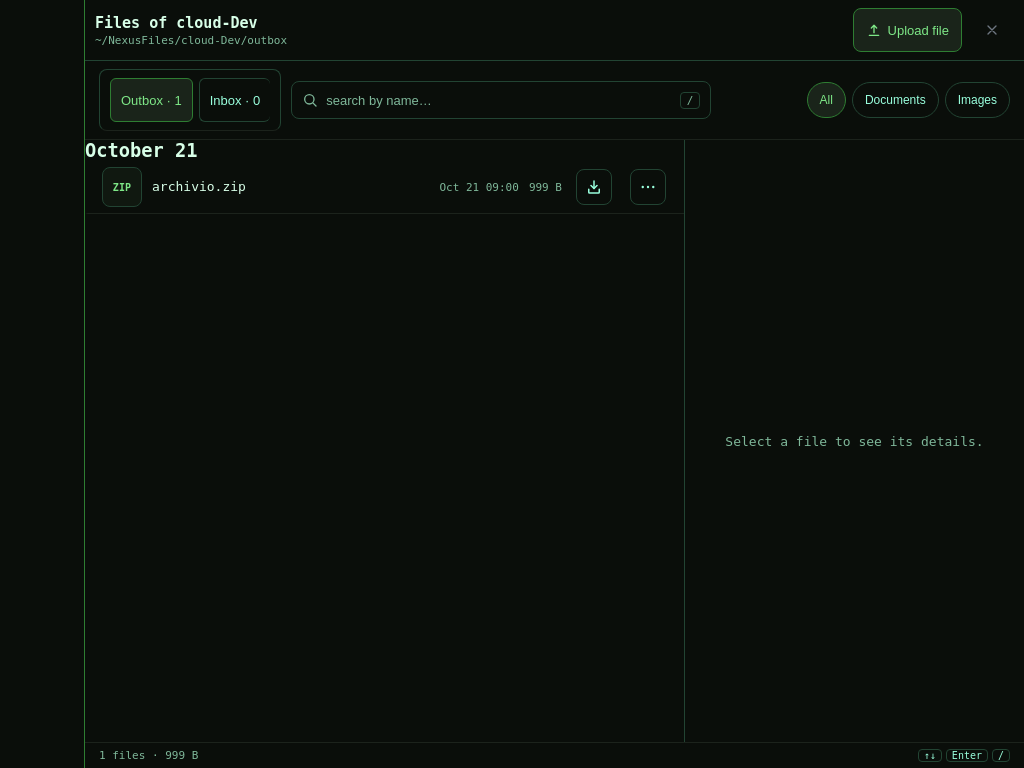
it: FilesPanel desktop — pannello dettaglio › tipi non anteprimabili: né <pre> né miniatura, né tasto Apri
The image size is (1024, 768).
Click the text "archivio.zip". click: (199, 186)
box: [152,178,246,194]
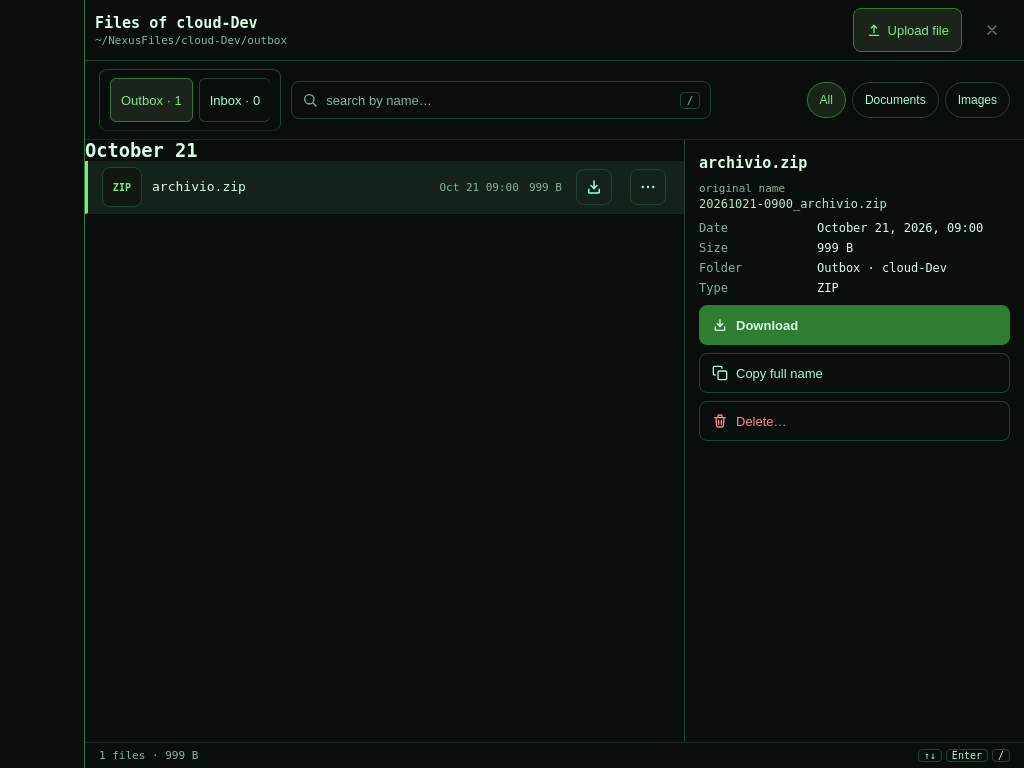
Check: the 1st text "archivio.zip" is shown, box [699,154,807,172]
